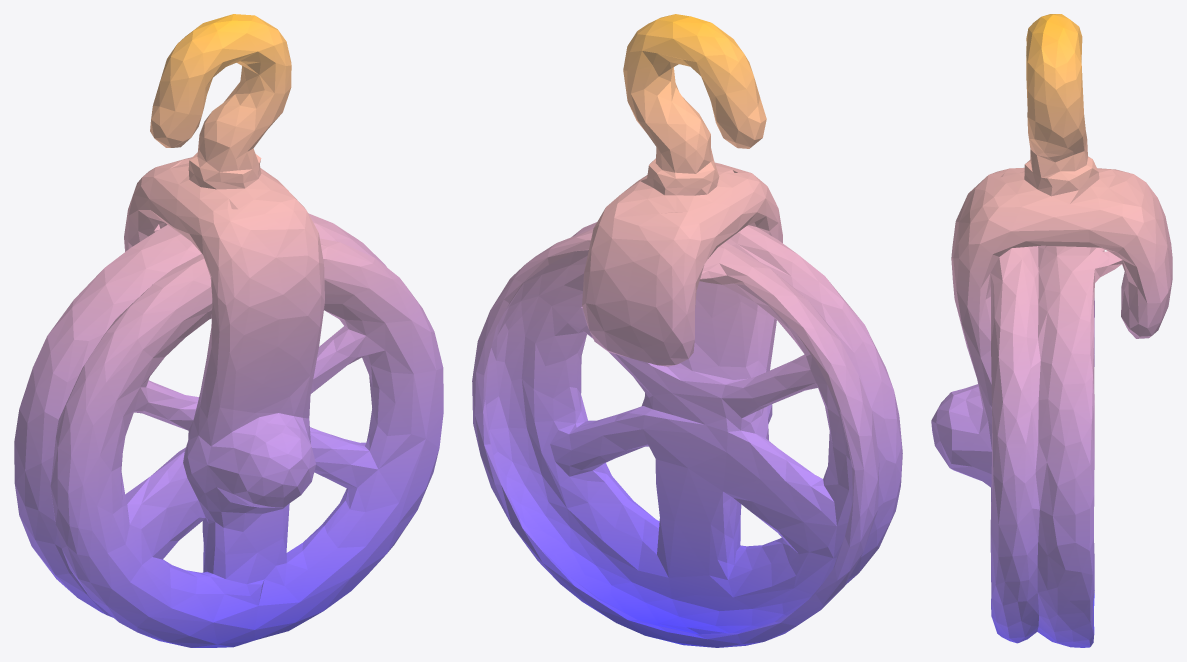
Rendered from 12_cyb_laser_gradient_fish_scales_2903_2026_10_03_c480ed.glb.
3 views of the same model, side by side, from view 1: azimuth 30°, elevation 25°; view 2: azimuth 150°, elevation 25°; view 3: azimuth 270°, elevation 25° (orthographic).
Parts seen in each view (by area): view 1: geometry_0; view 2: geometry_0; view 3: geometry_0.
Boxes of the visible parts, x1,y1,x2,y2 form: geometry_0: (14, 14, 443, 647); geometry_0: (472, 14, 902, 647); geometry_0: (931, 14, 1172, 647).
Bounding box in the file's own units: 0.6454 × 0.9528 × 0.3451.
